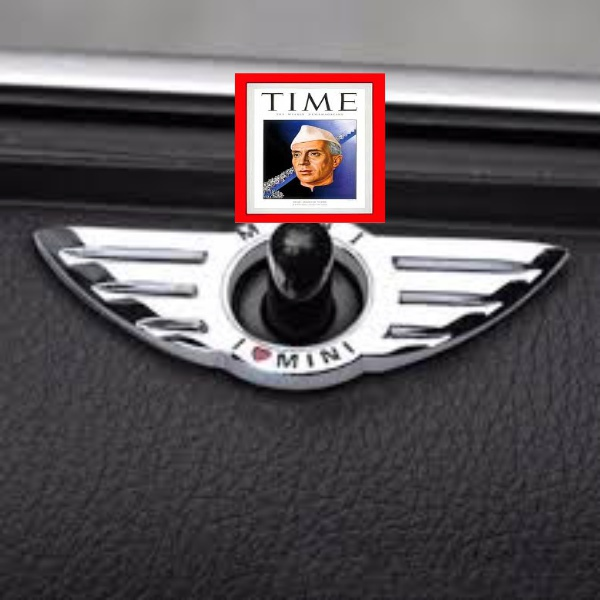time_cover: (228, 65, 393, 237)
